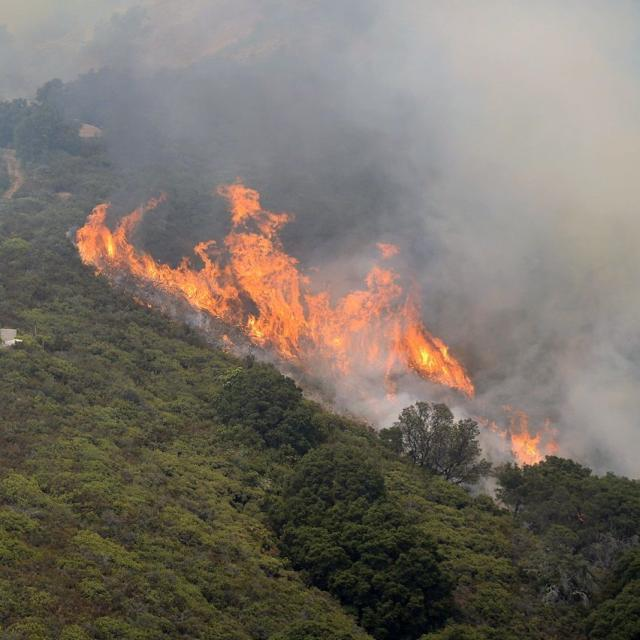Fire: (73, 181, 560, 471)
Smoke: (136, 0, 640, 180), (565, 178, 640, 477)
